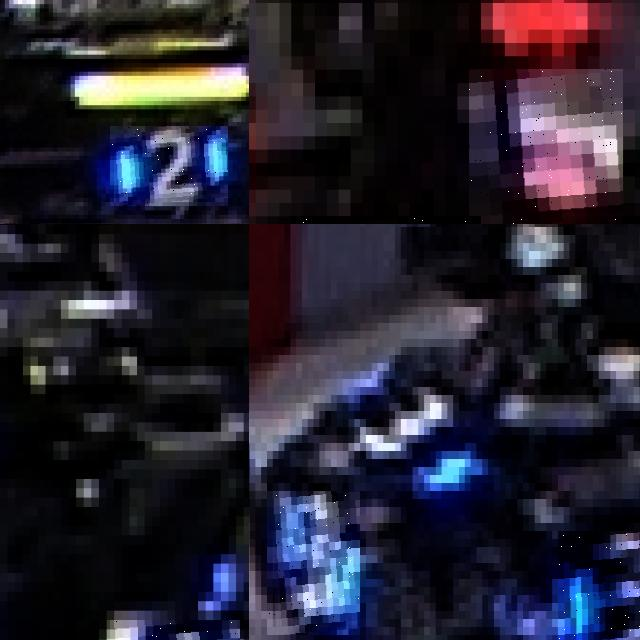B2: (110, 126, 228, 206)
B3: (267, 491, 360, 635), (557, 531, 640, 640)
R3: (469, 69, 623, 224)
